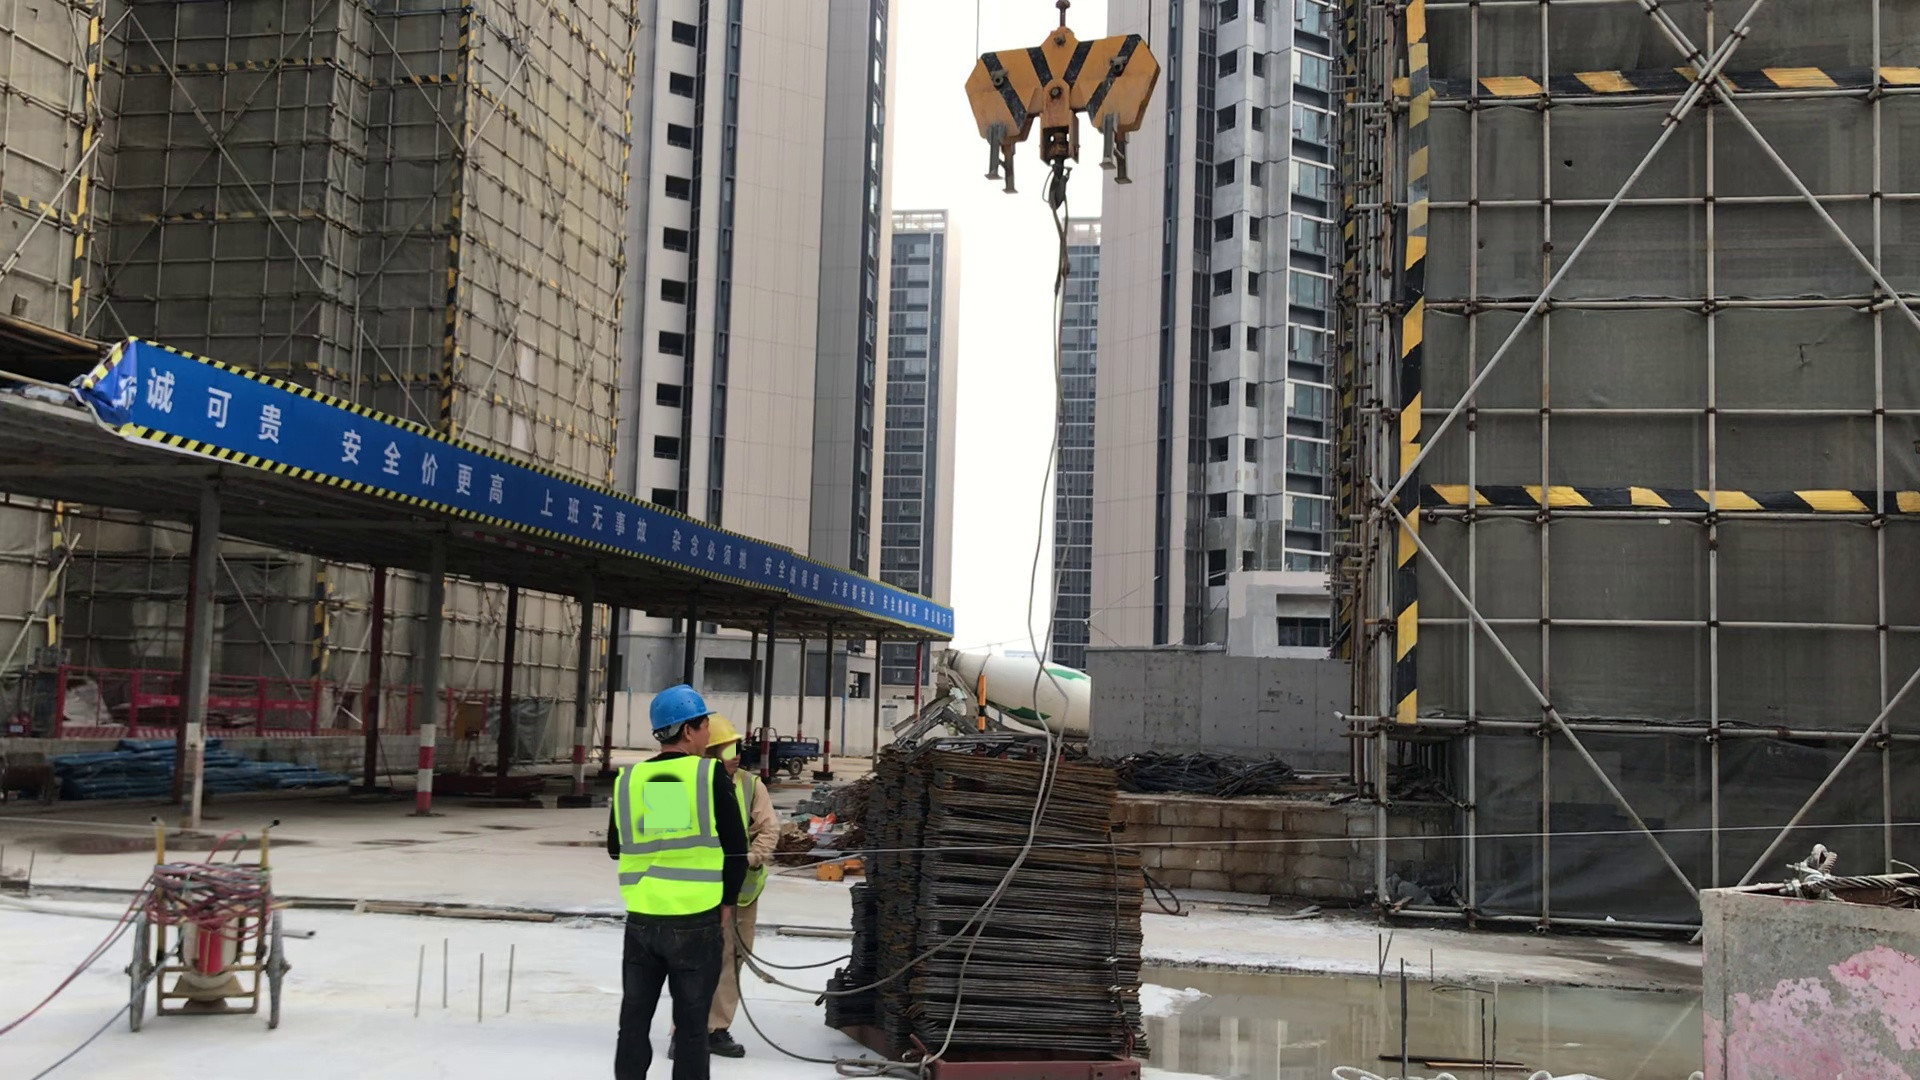helmet: (647, 687, 712, 721), (703, 715, 747, 749)
hook: (959, 10, 1157, 190)
person: (597, 680, 728, 1080), (700, 717, 778, 1060)
slogan: (109, 338, 959, 643)
vest: (612, 757, 725, 911)
